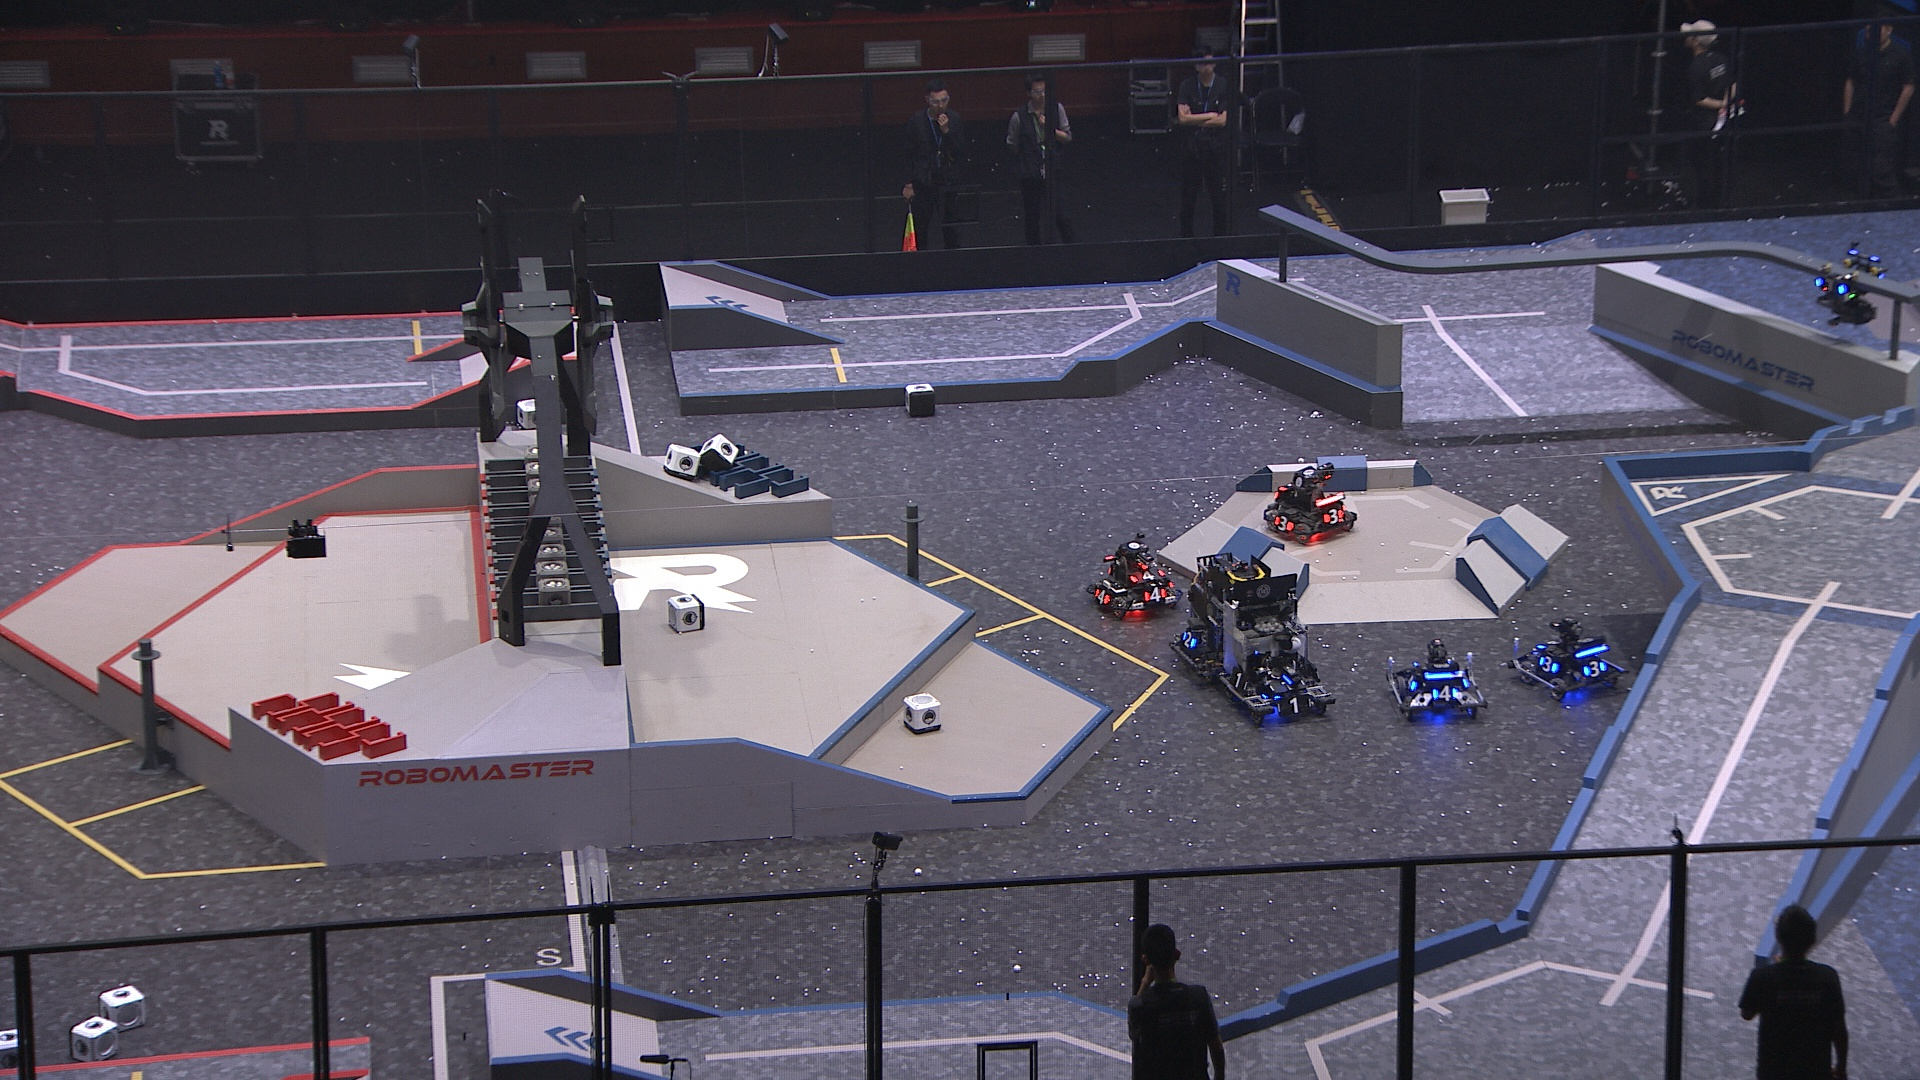armor: (1811, 276, 1849, 295), (1126, 566, 1166, 583), (1267, 676, 1305, 694), (1276, 698, 1313, 713), (1091, 585, 1112, 611), (1229, 666, 1247, 694), (1323, 506, 1346, 526), (1538, 654, 1557, 678), (1429, 684, 1458, 700), (1141, 585, 1167, 603), (1584, 659, 1607, 678), (1273, 514, 1292, 535), (1403, 670, 1415, 695), (1182, 629, 1197, 647), (1538, 636, 1557, 650)
car: (1215, 567, 1337, 725), (1171, 546, 1273, 690), (1509, 617, 1626, 702), (1382, 638, 1485, 725), (1259, 458, 1358, 546), (1083, 541, 1185, 622)
watcher: (1811, 239, 1898, 324)
